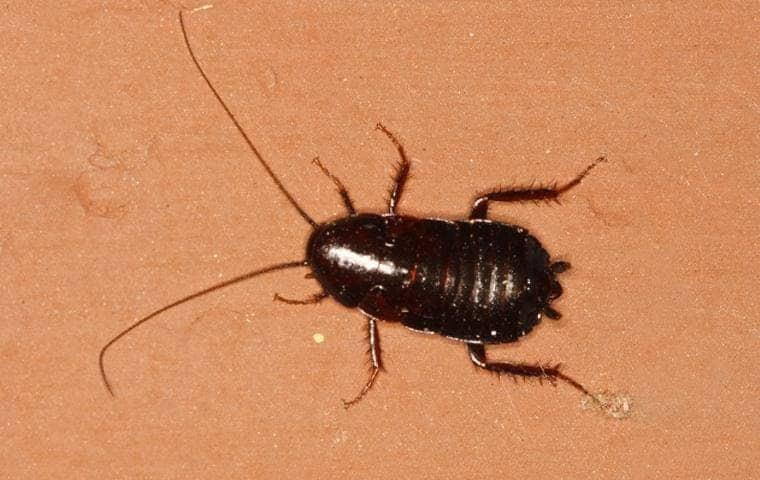cockroach: (286, 198, 580, 354)
